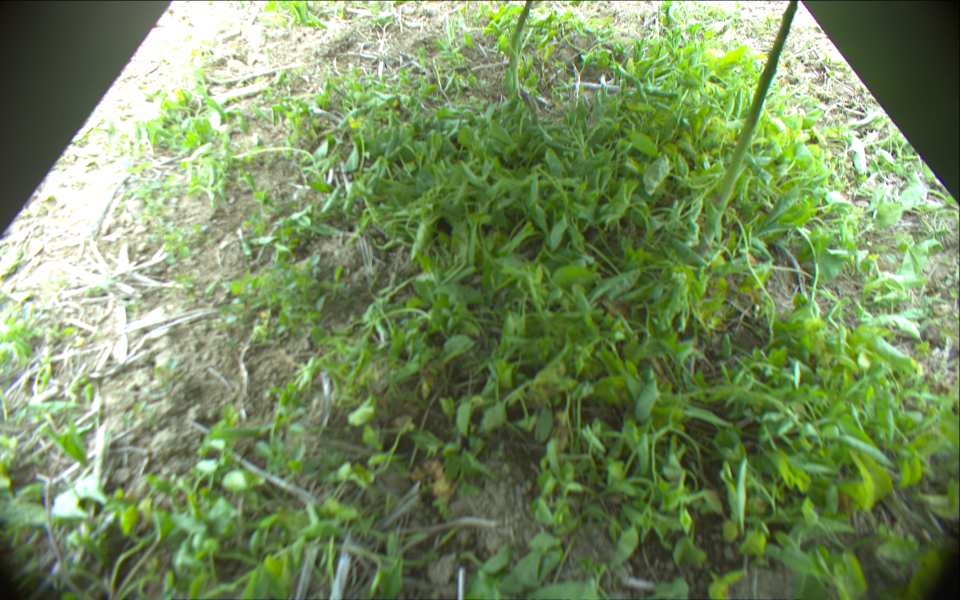aspa: (708, 1, 802, 230), (508, 1, 533, 101)
